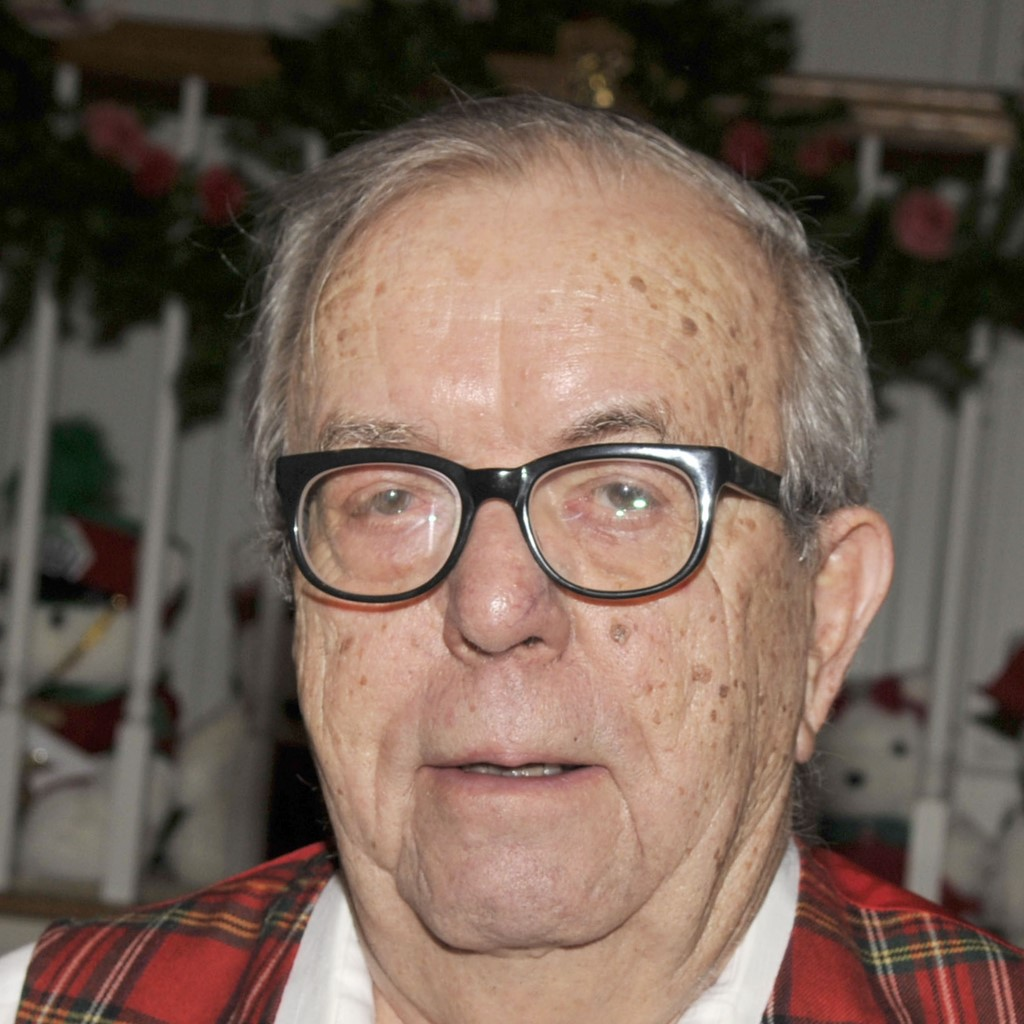sin_mascara: (287, 179, 835, 959)
